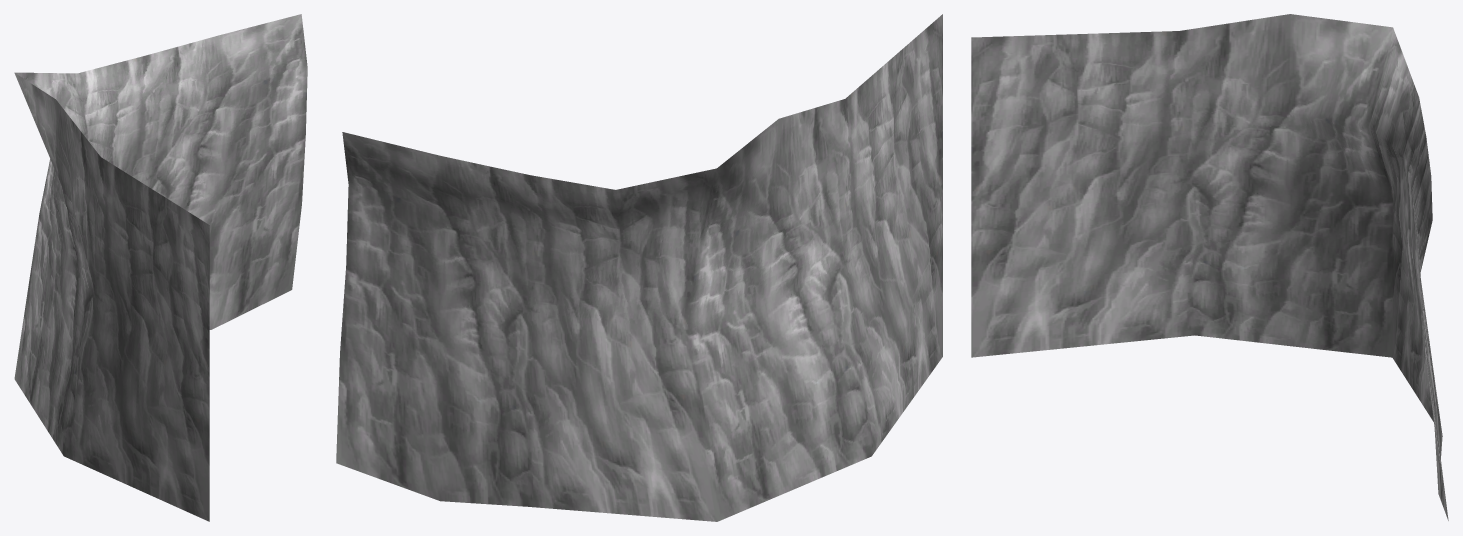
File: SWORDLIGHT20_PS-AREA03_176.fbx
3 renders of one model, left to right at view 1: azimuth 30°, elevation 25°; view 2: azimuth 150°, elevation 25°; view 3: azimuth 270°, elevation 25°, orthographic. The views are drawn at different scales.
Visible parts, largest first — view 1: SWORDLIGHT20_PS-AREA03_176; view 2: SWORDLIGHT20_PS-AREA03_176; view 3: SWORDLIGHT20_PS-AREA03_176.
Part boxes in pixels (x1,y1,x2,y2): SWORDLIGHT20_PS-AREA03_176: (14, 14, 307, 521); SWORDLIGHT20_PS-AREA03_176: (336, 14, 942, 521); SWORDLIGHT20_PS-AREA03_176: (971, 14, 1448, 520).
Bounding box in the file's own units: 61969 × 56887 × 68031.
Materials: 1 (1 with a texture image).
